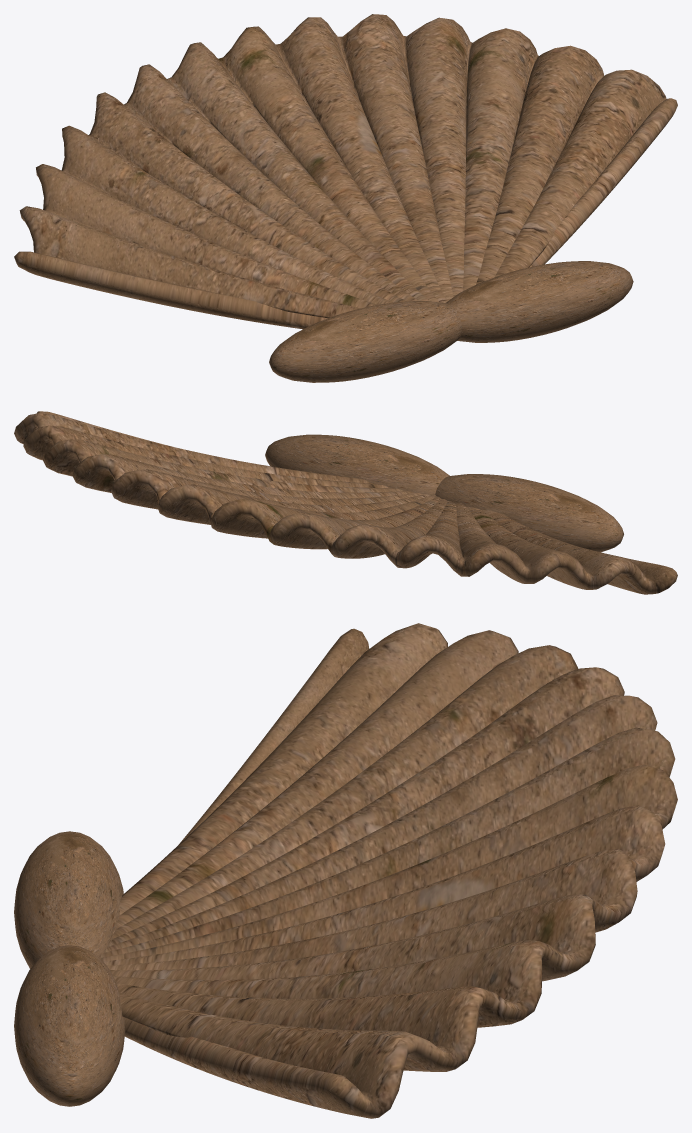
The model's file is shell_b.glb.
3 renders of one model, top to bottom at view 1: azimuth 30°, elevation 25°; view 2: azimuth 150°, elevation 25°; view 3: azimuth 270°, elevation 25°, orthographic. The views are drawn at different scales.
Visible parts, largest first — view 1: shell_b; view 2: shell_b; view 3: shell_b.
Boxes of the visible parts, x1,y1,x2,y2 form: shell_b: (14,14,677,382); shell_b: (14,411,677,594); shell_b: (14,623,677,1118).
Bounding box in the file's own units: 0.0606 × 0.0152 × 0.037.
Materials: 1 (1 with a texture image).
